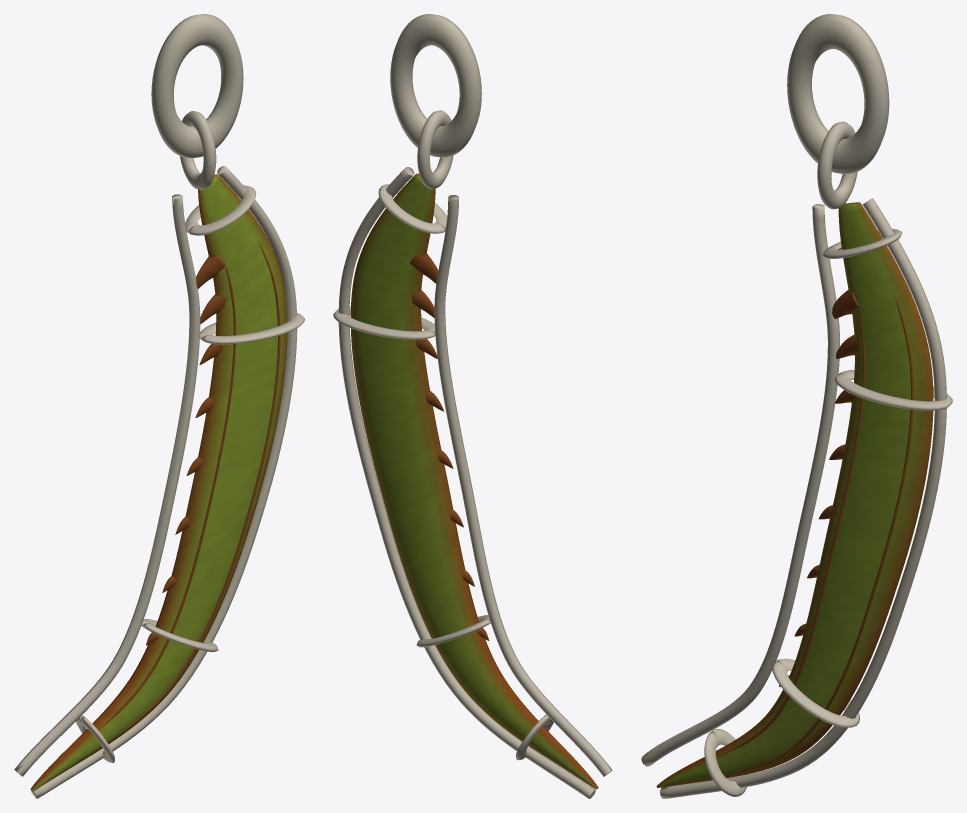
The model's file is mantis_edge_charm.glb.
3 views of the same model, side by side, from view 1: azimuth 30°, elevation 25°; view 2: azimuth 150°, elevation 25°; view 3: azimuth 330°, elevation 25° (orthographic). The views are drawn at different scales.
Visible parts, largest first — view 1: Olive green mantis spur with amber brown cutting edge, Polished hammered titanium open cage, Amber brown mantis edge and tooth tips; view 2: Olive green mantis spur with amber brown cutting edge, Polished hammered titanium open cage, Amber brown mantis edge and tooth tips; view 3: Olive green mantis spur with amber brown cutting edge, Polished hammered titanium open cage, Amber brown mantis edge and tooth tips.
Boxes of the visible parts, left/top/right/bottom form: Olive green mantis spur with amber brown cutting edge: left=30, top=174, right=287, bottom=791; Polished hammered titanium open cage: left=14, top=14, right=304, bottom=798; Amber brown mantis edge and tooth tips: left=90, top=240, right=280, bottom=747; Olive green mantis spur with amber brown cutting edge: left=350, top=173, right=598, bottom=789; Polished hammered titanium open cage: left=333, top=14, right=612, bottom=798; Amber brown mantis edge and tooth tips: left=409, top=253, right=489, bottom=640; Olive green mantis spur with amber brown cutting edge: left=656, top=202, right=933, bottom=787; Polished hammered titanium open cage: left=641, top=14, right=952, bottom=798; Amber brown mantis edge and tooth tips: left=717, top=290, right=913, bottom=775.
Bounding box in the file's own units: 0.0276 × 0.0697 × 0.00542.
